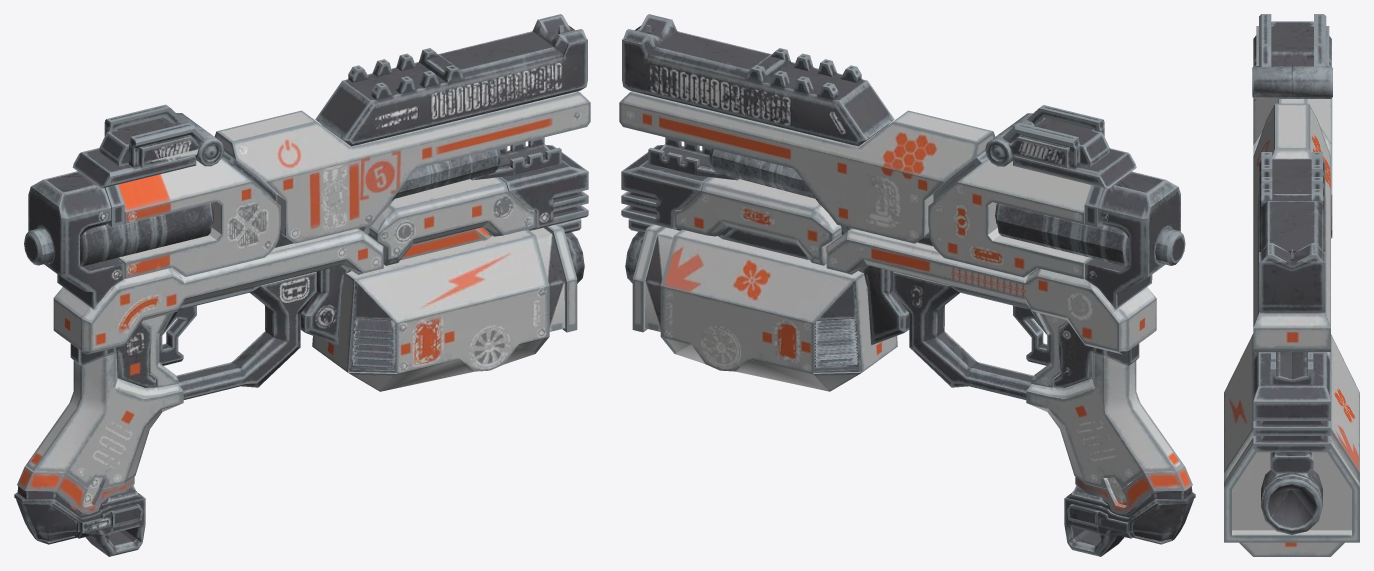
The model's file is gun.glb.
3 renders of one model, left to right at view 1: azimuth 30°, elevation 25°; view 2: azimuth 150°, elevation 25°; view 3: azimuth 270°, elevation 25°, orthographic. The views are drawn at different scales.
Parts seen in each view (by area): view 1: gun; view 2: gun; view 3: gun.
Boxes of the visible parts, bbox=[...] form: gun: bbox=[14, 14, 590, 556]; gun: bbox=[619, 14, 1195, 556]; gun: bbox=[1224, 14, 1359, 556].
Size of the model in its own units: 0.2402 by 0.1721 by 0.047.
Materials: 1 (1 with a texture image).
